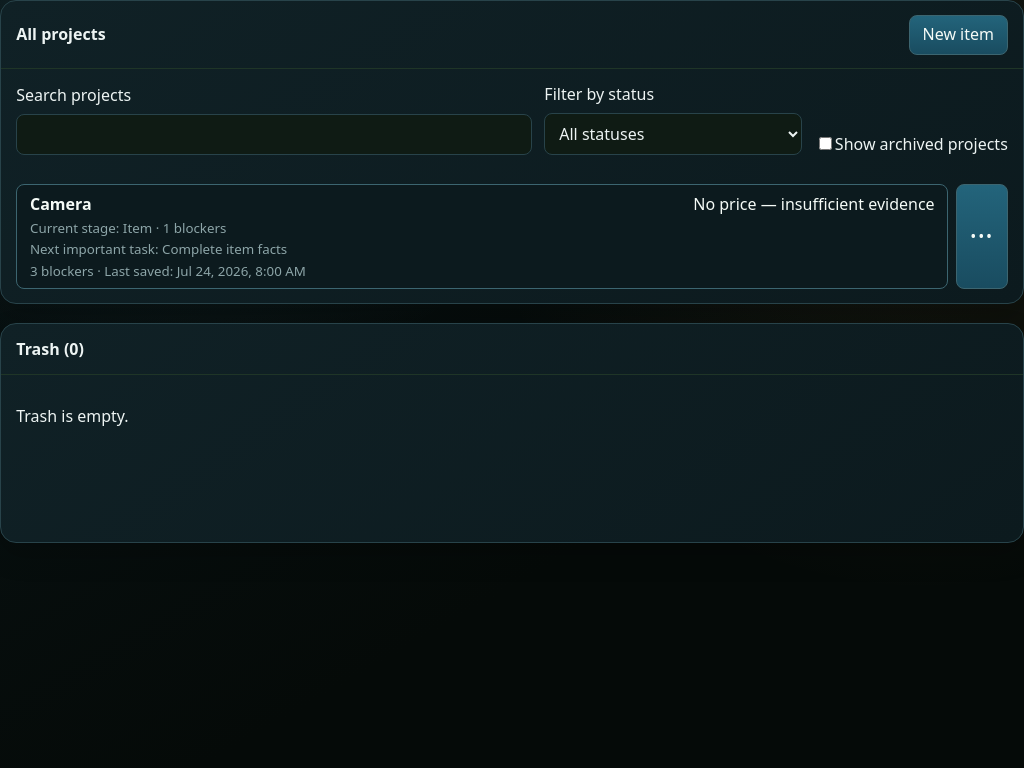
Test: ProjectDashboard › validates rename in an accessible in-app dialog
Click the button "•••" at (982, 237), box x1=956 y1=184 x2=1008 y2=289
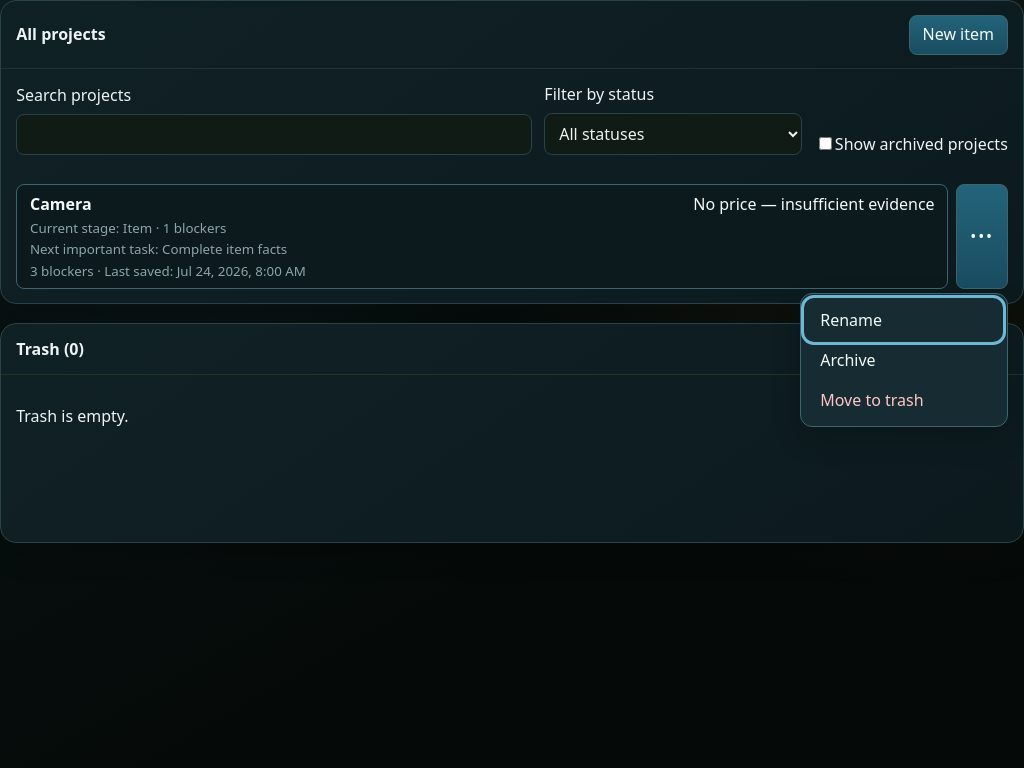
Click the menu item "Rename" at (904, 320), box x1=806 y1=300 x2=1001 y2=340
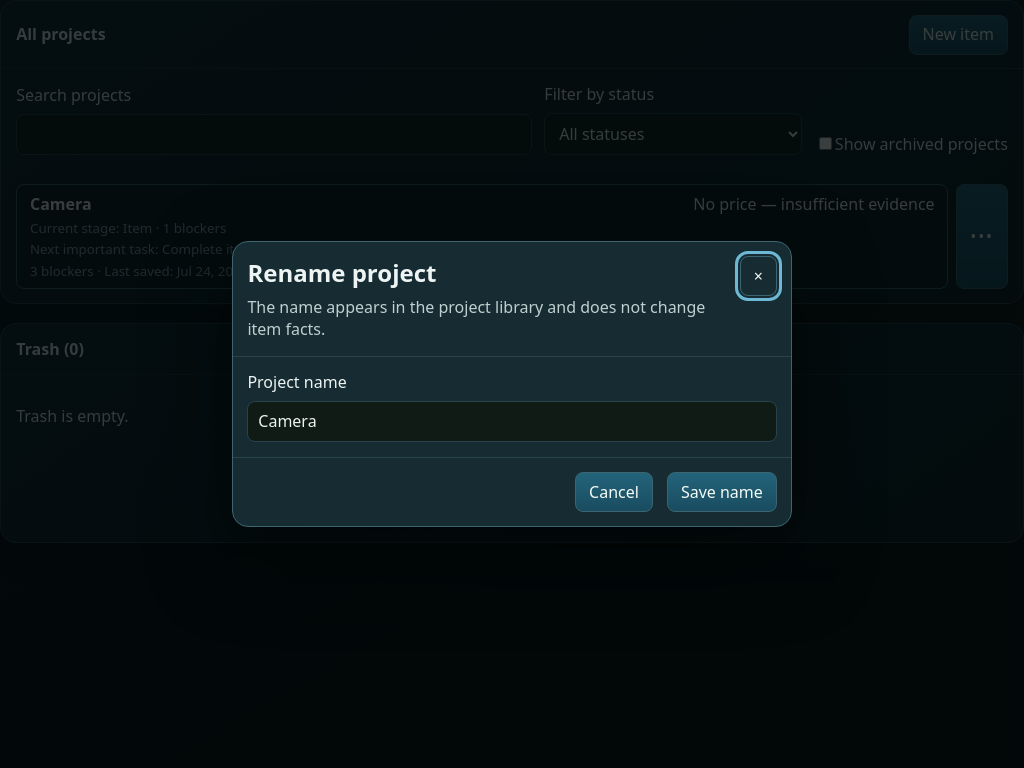
Clear the field labelled "Project name" at (512, 421), box x1=247 y1=401 x2=777 y2=442
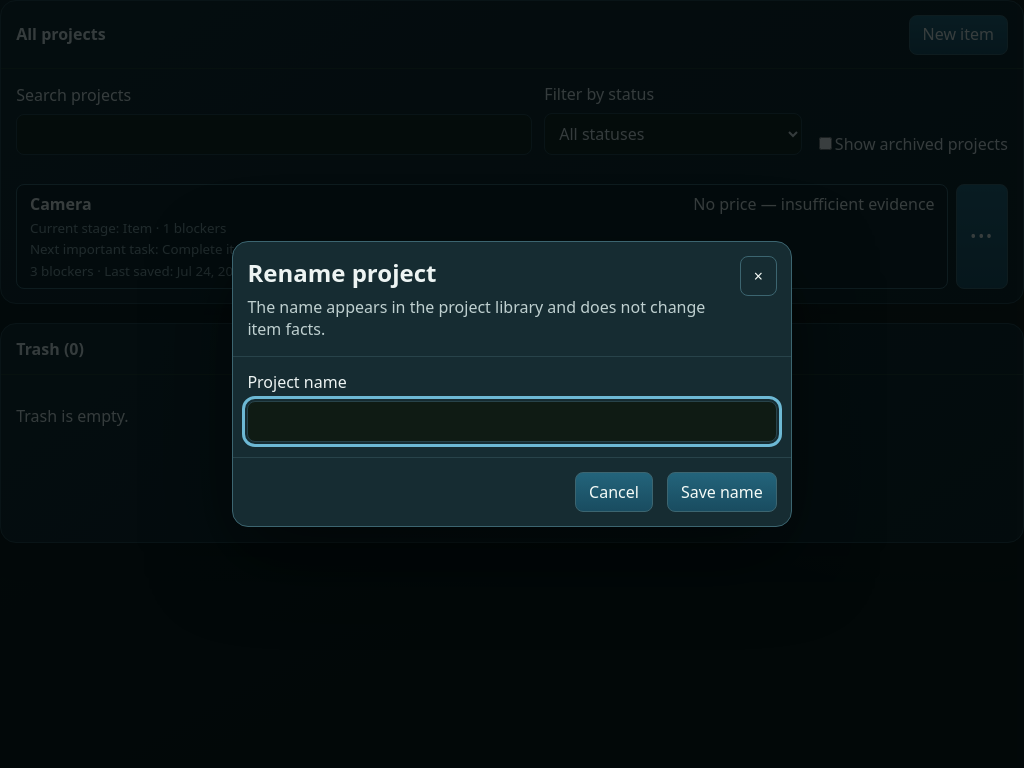
Click the button "Save name" at (722, 492), box x1=667 y1=472 x2=777 y2=512
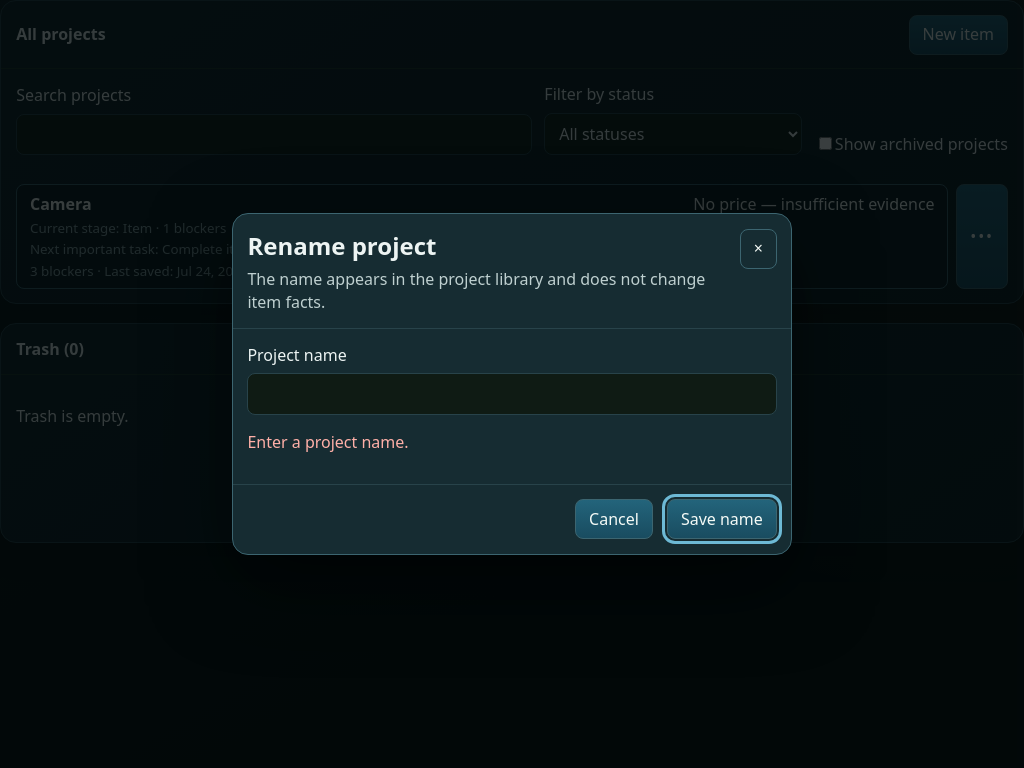
Now the message reads "Enter a project name.", box x1=247 y1=431 x2=409 y2=453
Type "New camera name" into the field labelled "Project name" at (512, 394), box x1=247 y1=373 x2=777 y2=415
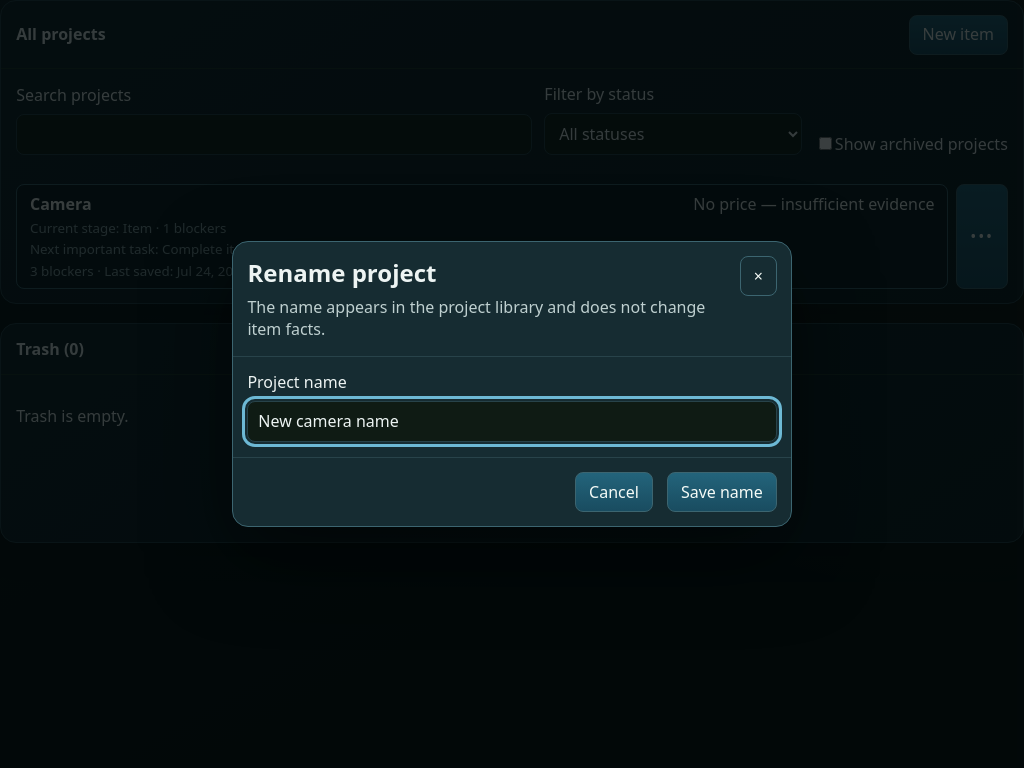
Click the button "Save name" at (722, 492), box x1=667 y1=472 x2=777 y2=512
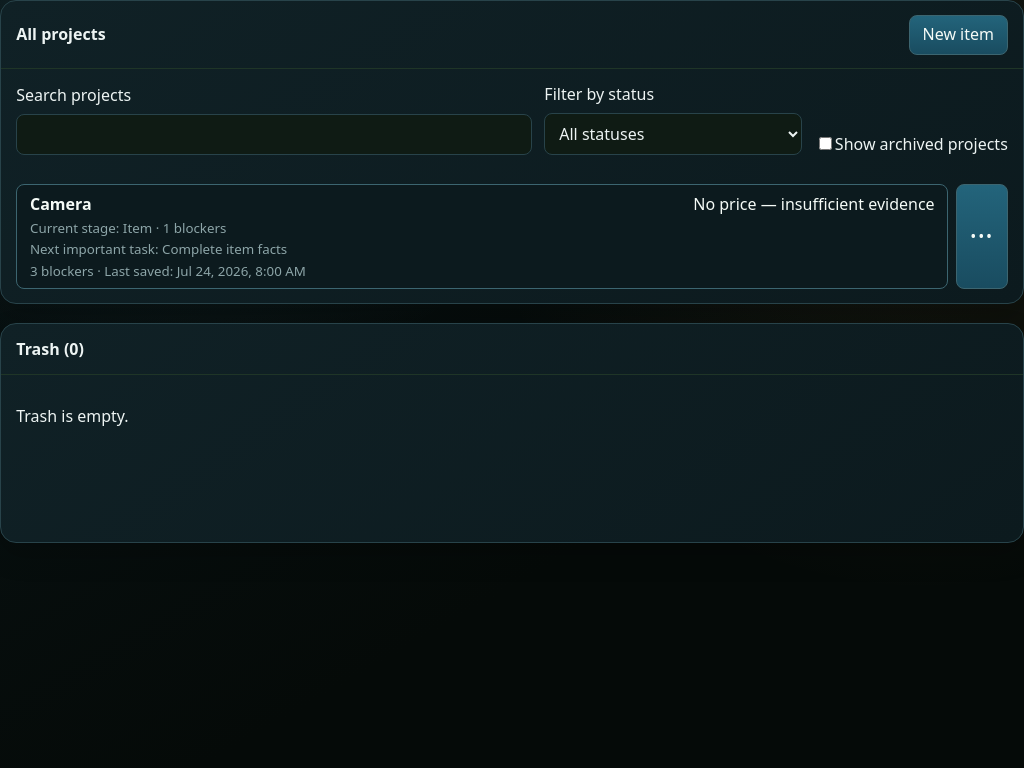
Now the dialog is gone
